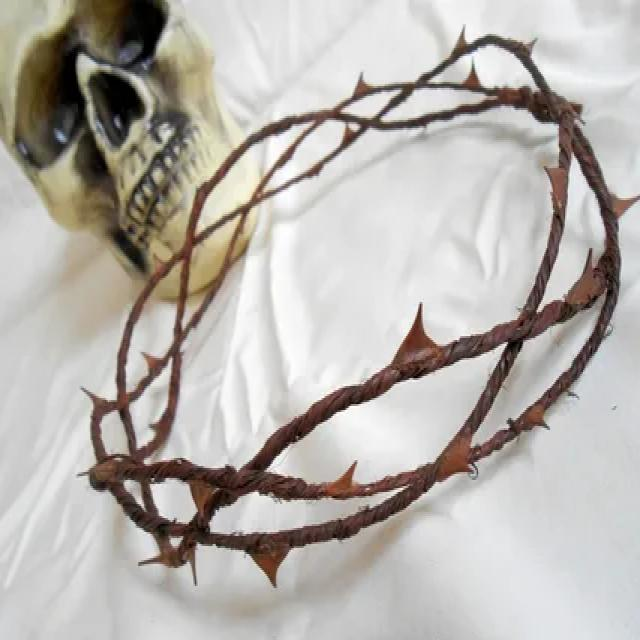crown: (87, 38, 632, 573)
